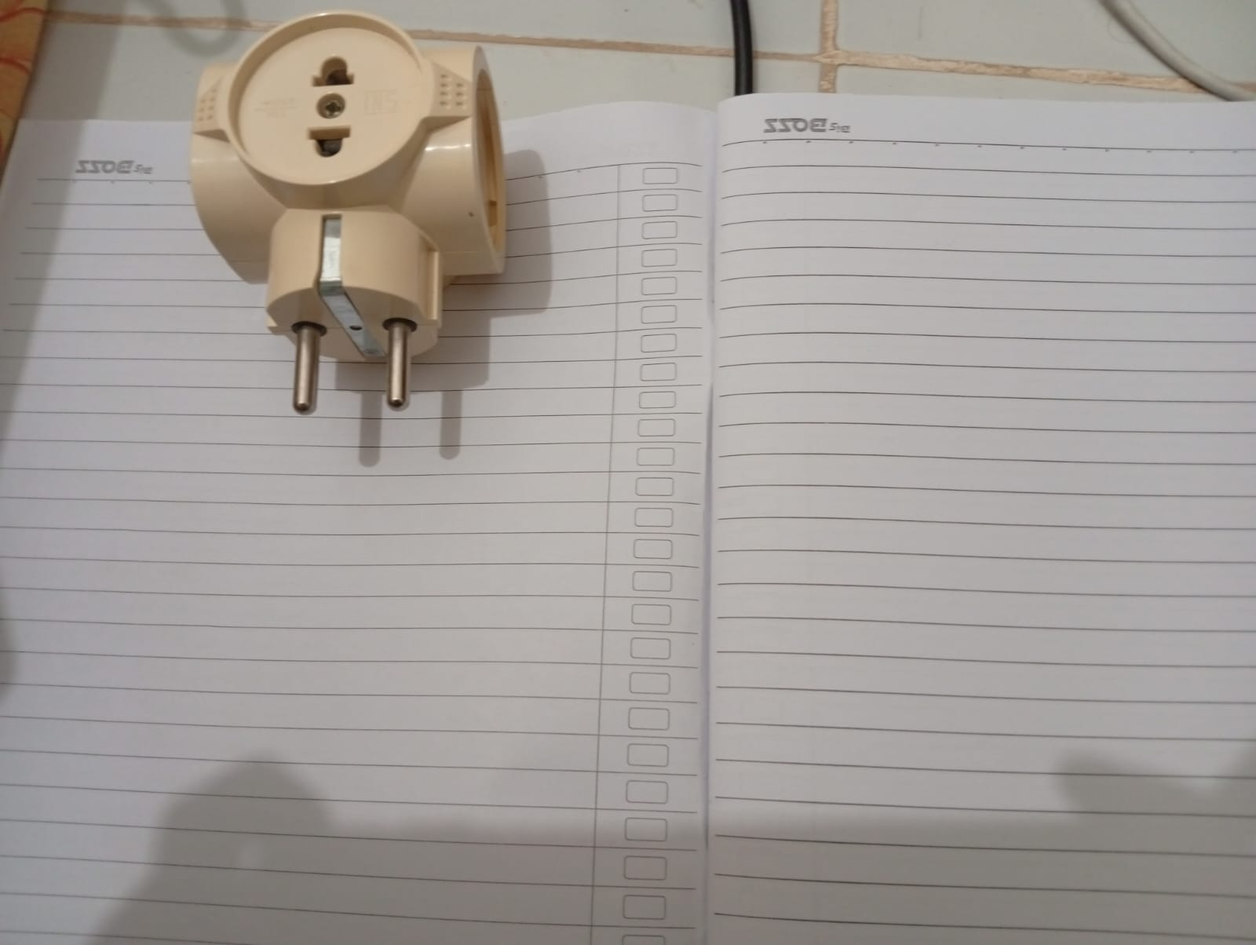Colokan: (149, 8, 535, 425)
